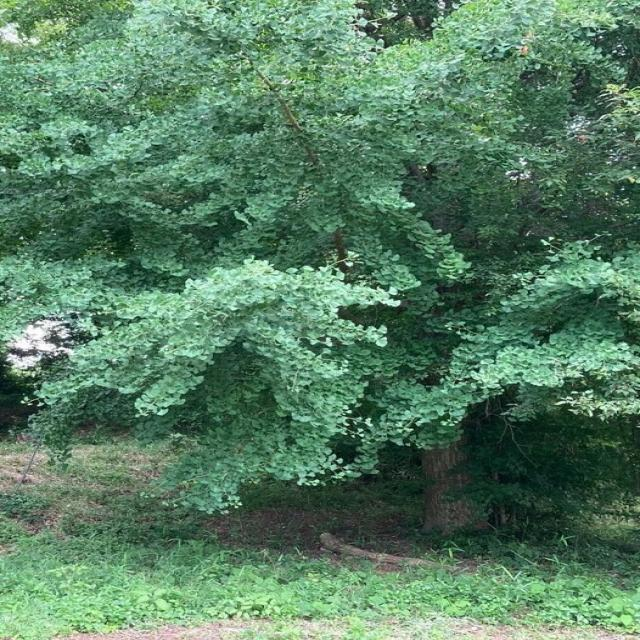ginkgo: (0, 0, 640, 537)
